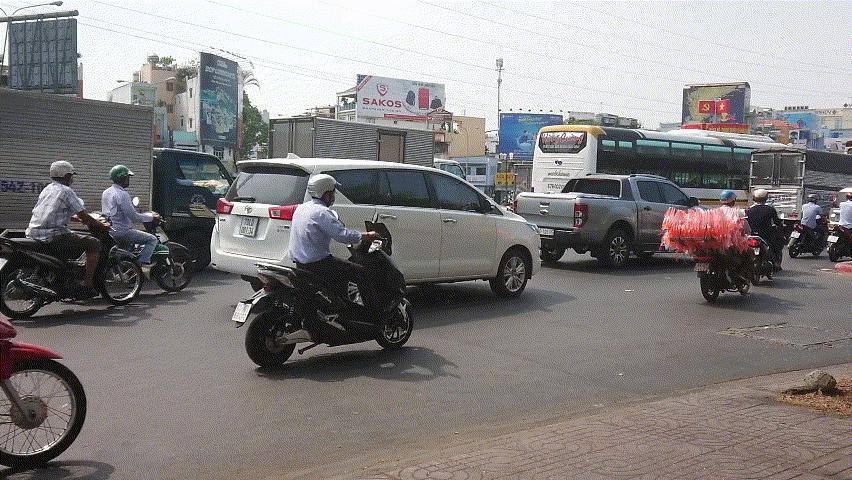driver: (231, 173, 415, 370), (0, 160, 146, 321), (102, 163, 195, 293), (693, 190, 756, 305), (786, 193, 837, 259)
helmet: (307, 173, 343, 209), (48, 159, 79, 188), (109, 164, 133, 189), (719, 189, 738, 208), (752, 188, 770, 205), (806, 193, 819, 204)
